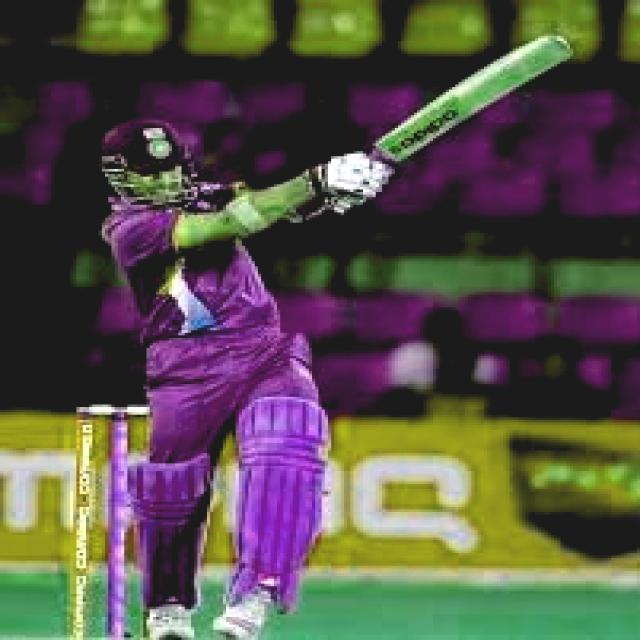toe: (515, 32, 575, 78)
